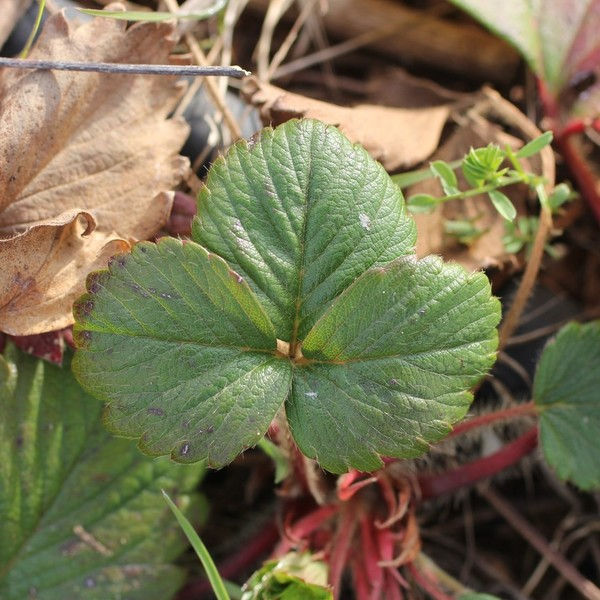obstacle: (82, 118, 483, 472)
